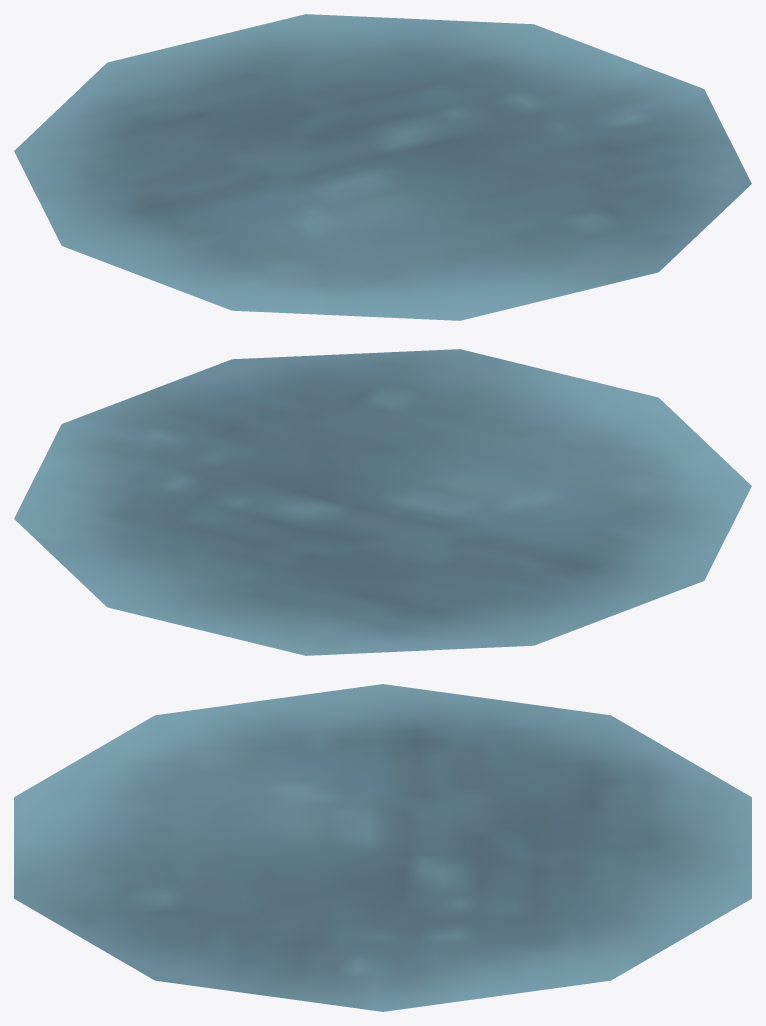
Rendered from waterSoup.fbx.
3 views of the same model, one above another, from view 1: azimuth 30°, elevation 25°; view 2: azimuth 150°, elevation 25°; view 3: azimuth 270°, elevation 25° (orthographic). The views are drawn at different scales.
Visible parts, largest first — view 1: pCylinder21.001; view 2: pCylinder21.001; view 3: pCylinder21.001.
Part boxes in pixels (x1,y1,x2,y2): pCylinder21.001: (14,14,751,320); pCylinder21.001: (14,349,751,655); pCylinder21.001: (14,684,751,1011).
Size of the model in its own units: 643 by 9.96e-05 by 611.
